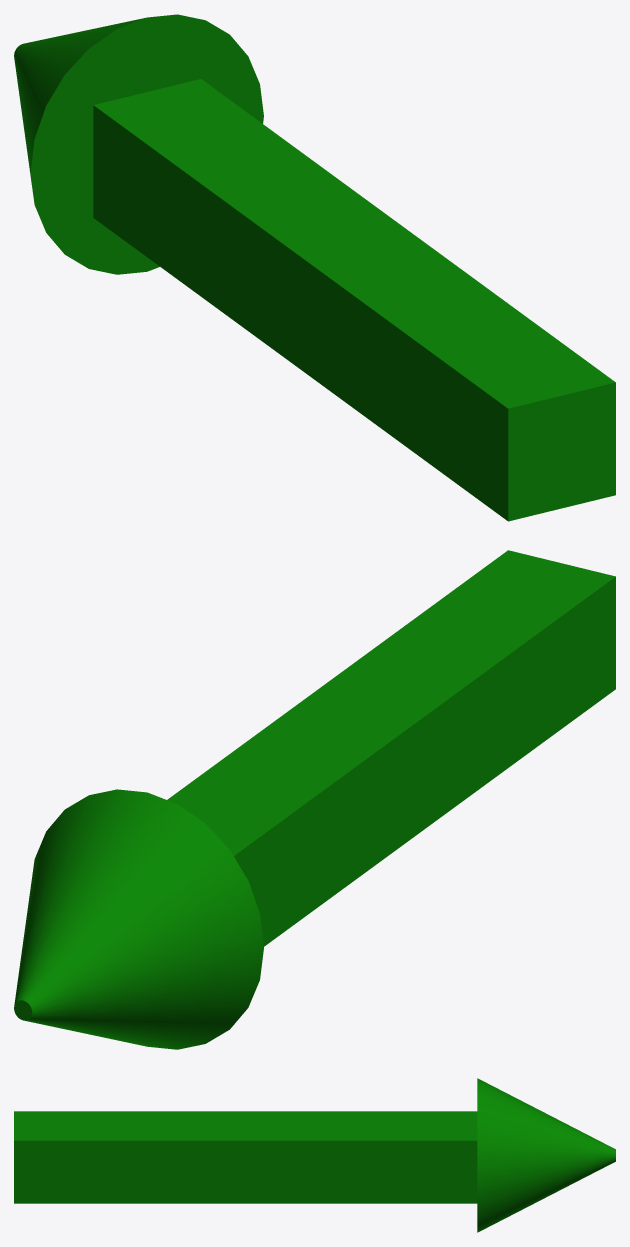
File: greenarrow.fbx
The picture shows the model from 3 angles, top to bottom: view 1: azimuth 30°, elevation 25°; view 2: azimuth 150°, elevation 25°; view 3: azimuth 270°, elevation 25°; orthographic projection. The views are drawn at different scales.
Visible parts, largest first — view 1: Box001, Cone001; view 2: Box001, Cone001; view 3: Box001, Cone001.
Boxes of the visible parts, x1,y1,x2,y2 form: Box001: [93, 79, 615, 521]; Cone001: [14, 14, 263, 274]; Box001: [167, 550, 615, 946]; Cone001: [14, 789, 263, 1049]; Box001: [14, 1111, 477, 1203]; Cone001: [477, 1078, 615, 1232].
Bounding box in the file's own units: 3.25 × 3.38 × 12.99.
